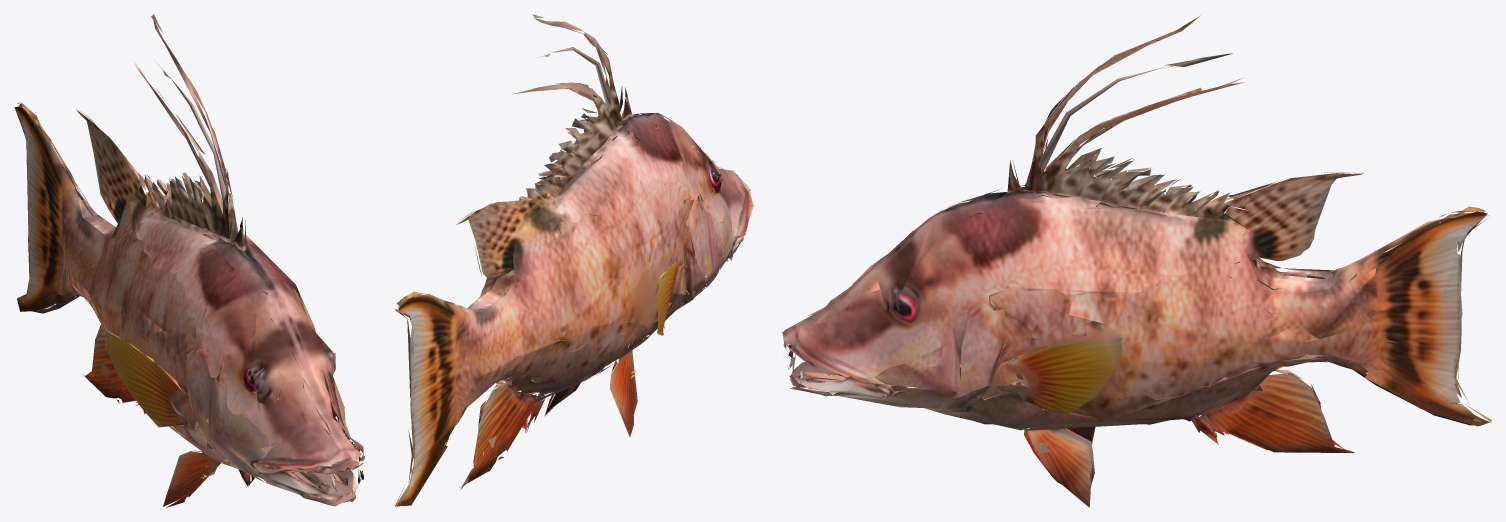
File: wrasse.glb
The picture shows the model from 3 angles, left to right: view 1: azimuth 30°, elevation 25°; view 2: azimuth 150°, elevation 25°; view 3: azimuth 270°, elevation 25°; orthographic projection. The views are drawn at different scales.
Visible parts, largest first — view 1: wrasse.001; view 2: wrasse.001; view 3: wrasse.001.
Part boxes in pixels (x1=…): wrasse.001: x1=14, y1=14, x2=365, y2=507; wrasse.001: x1=394, y1=14, x2=753, y2=507; wrasse.001: x1=782, y1=15, x2=1491, y2=507.
Bounding box in the file's own units: 0.2957 × 0.7365 × 1.
Materials: 1 (1 with a texture image).
